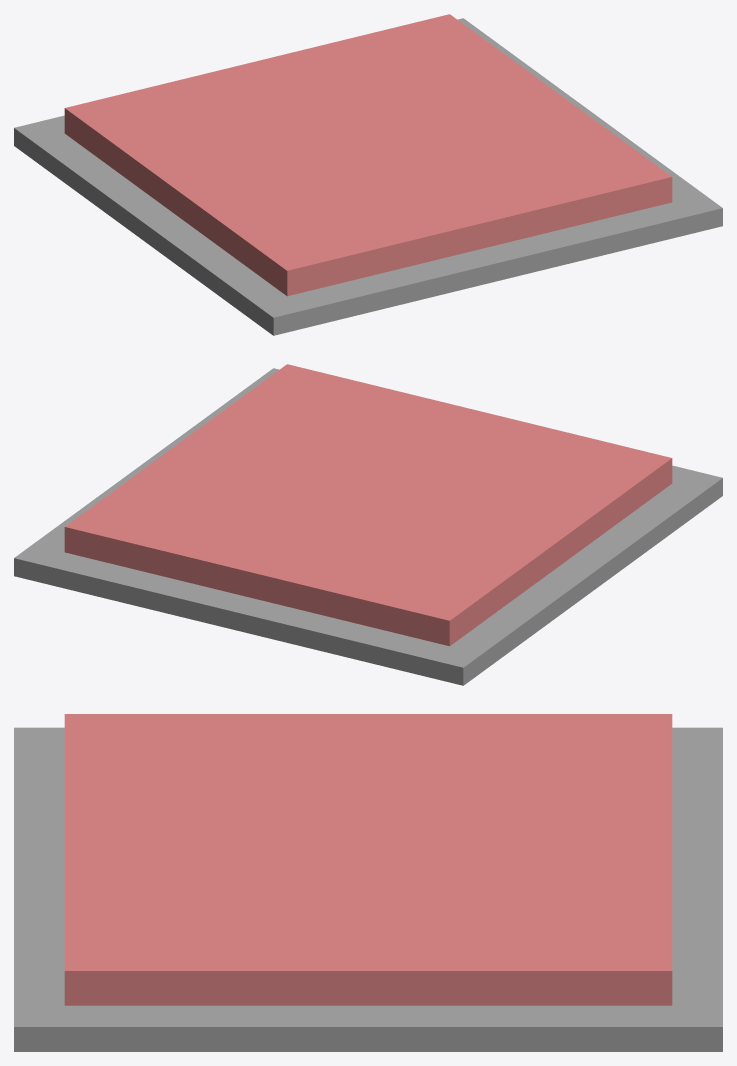
The model's file is button.fbx.
The picture shows the model from 3 angles, top to bottom: view 1: azimuth 30°, elevation 25°; view 2: azimuth 150°, elevation 25°; view 3: azimuth 270°, elevation 25°; orthographic projection. The views are drawn at different scales.
Parts seen in each view (by area): view 1: button1; view 2: button1; view 3: button1.
Boxes of the visible parts, x1,y1,x2,y2 form: button1: [14, 14, 722, 335]; button1: [14, 364, 722, 685]; button1: [14, 714, 722, 1051].
Size of the model in its own units: 3 by 0.278 by 3.
